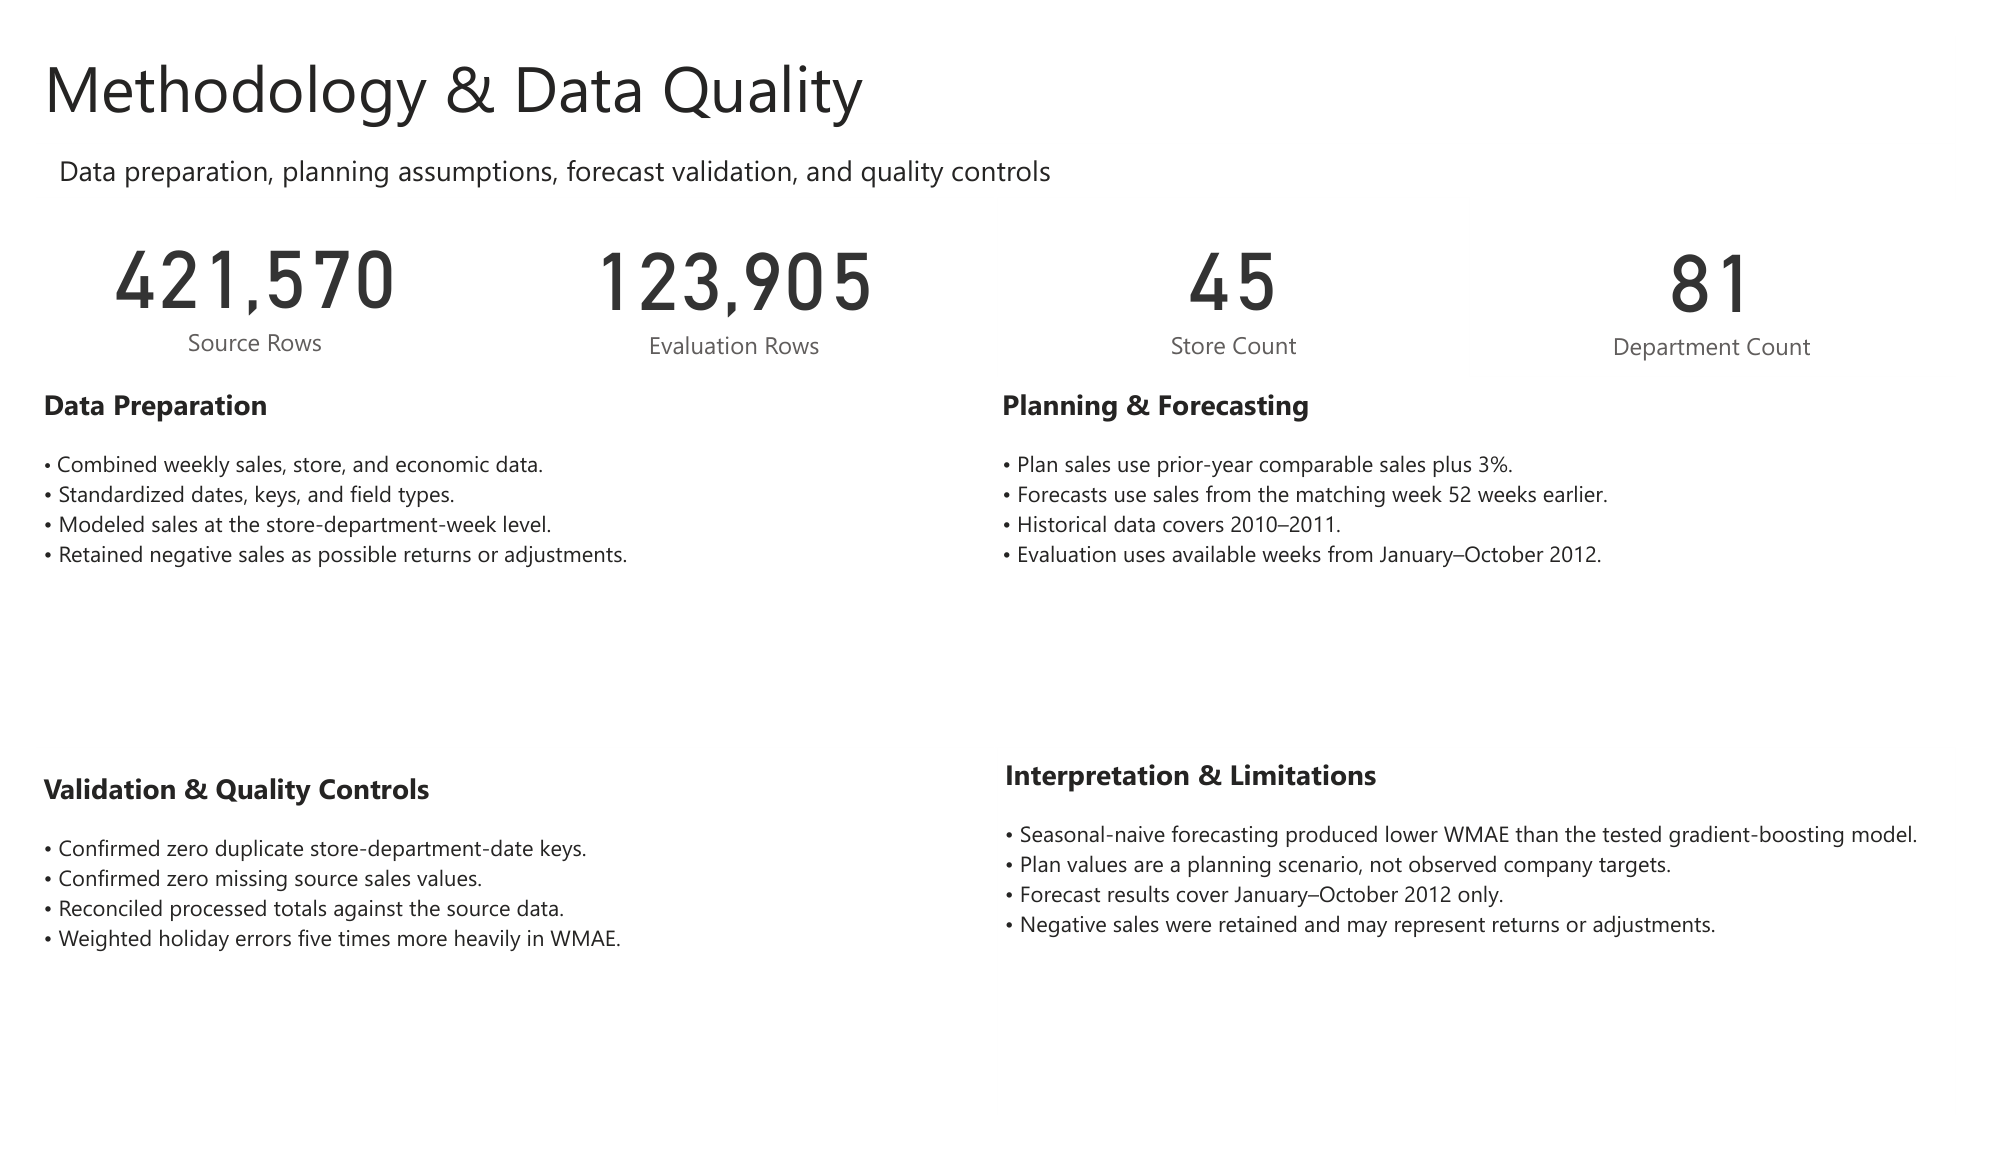

This screenshot's page, from the dashboard's own definition file:
{"tool":"powerbi","page":{"name":"Methodology & Data Quality","canvas":[1280,720],"ordinal":3},"visuals":[{"type":"textbox","box":[0,0,1279.7,71.9],"z":0},{"type":"textbox","box":[0,71.9,1279.7,40.1],"z":1},{"type":"card","fields":{"Values":["fact_weekly_sales.Department Count"]},"box":[954.2,108.8,325.8,118.2],"z":2,"group":"g1"},{"type":"card","fields":{"Values":["fact_weekly_sales.Evaluation Rows"]},"box":[291.8,107.3,347.3,119.9],"z":3,"group":"g1"},{"type":"card","fields":{"Values":["fact_weekly_sales.Source Rows"]},"box":[0,107.3,291.8,116.4],"z":4,"group":"g1"},{"type":"card","fields":{"Values":["fact_weekly_sales.Store Count"]},"box":[640.9,106.7,315.1,119.9],"z":5,"group":"g1"},{"type":"group","id":"g1","title":"Group 1","box":[0,106.7,1280,120.6],"z":6},{"type":"textbox","box":[0,227.4,639.1,247],"z":7},{"type":"textbox","box":[639.1,227.4,640.9,247],"z":8},{"type":"textbox","box":[0,484,639,236],"z":9},{"type":"textbox","box":[640.9,474.4,639.1,245.3],"z":10}]}

Visuals, with their boxes in screenshot pixels (x1, y1, x2, y2), scaled from the page's 1280x720 canvas onto the 1992x1152 screenshot:
textbox: (0,0,1991,115)
textbox: (0,115,1991,179)
card - fact_weekly_sales.Department Count: (1485,174,1991,363)
card - fact_weekly_sales.Evaluation Rows: (454,172,995,364)
card - fact_weekly_sales.Source Rows: (0,172,454,358)
card - fact_weekly_sales.Store Count: (997,171,1488,363)
"Group 1" group: (0,171,1991,364)
textbox: (0,364,995,759)
textbox: (995,364,1991,759)
textbox: (0,774,994,1151)
textbox: (997,759,1991,1151)
